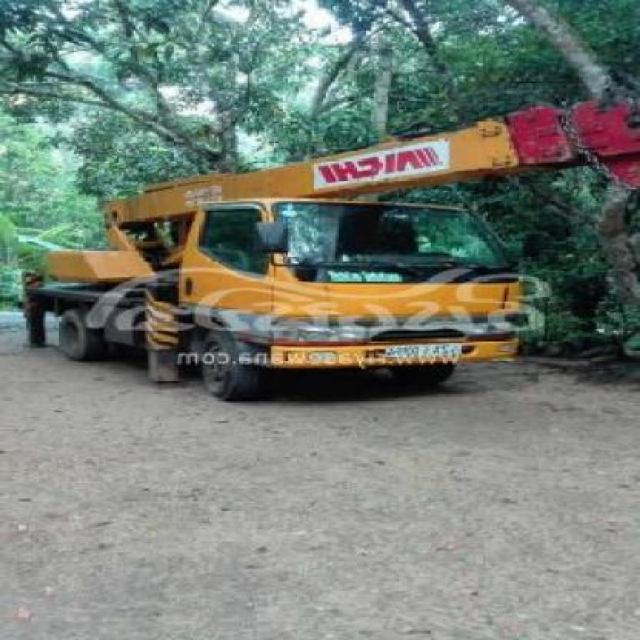truck: (36, 100, 640, 400)
